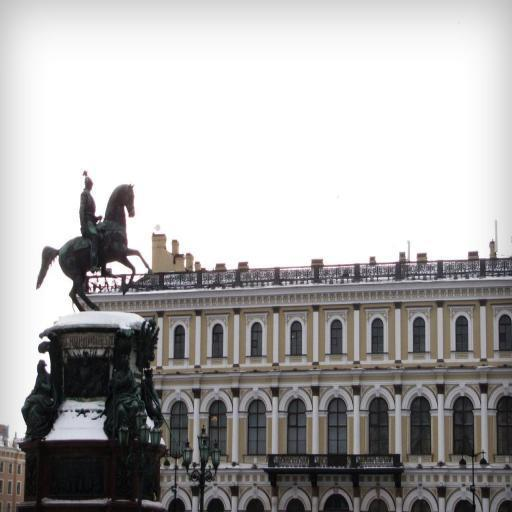horse: (34, 181, 154, 311)
